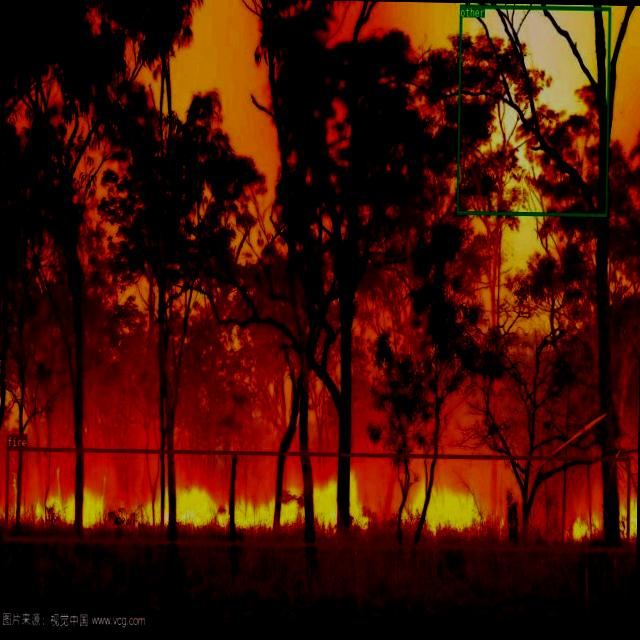fire: (4, 446, 630, 550)
